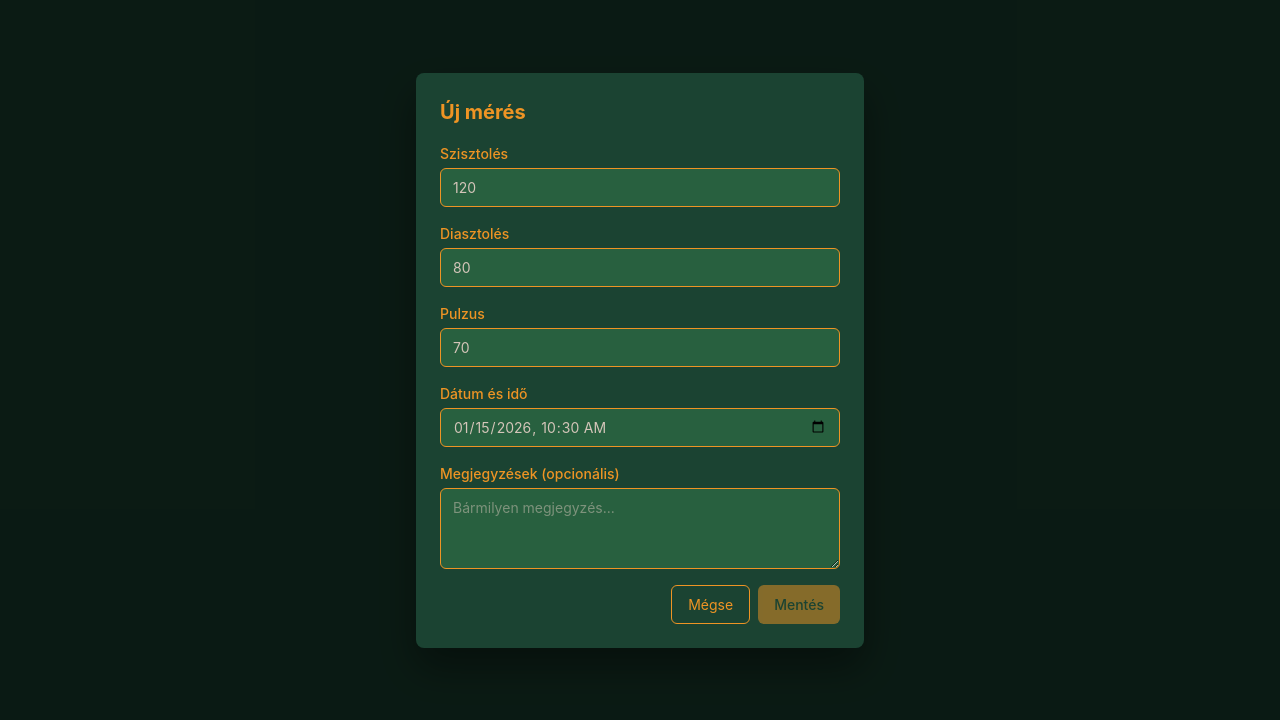
it: ReadingDialog › edit mode › Save is disabled initially and enabled after a field is changed
Expected: the button "Mentés" is disabled, [758, 584, 840, 624]
In the number field labelled "Diasztolés": (640, 267) [440, 248, 840, 286], type "82"
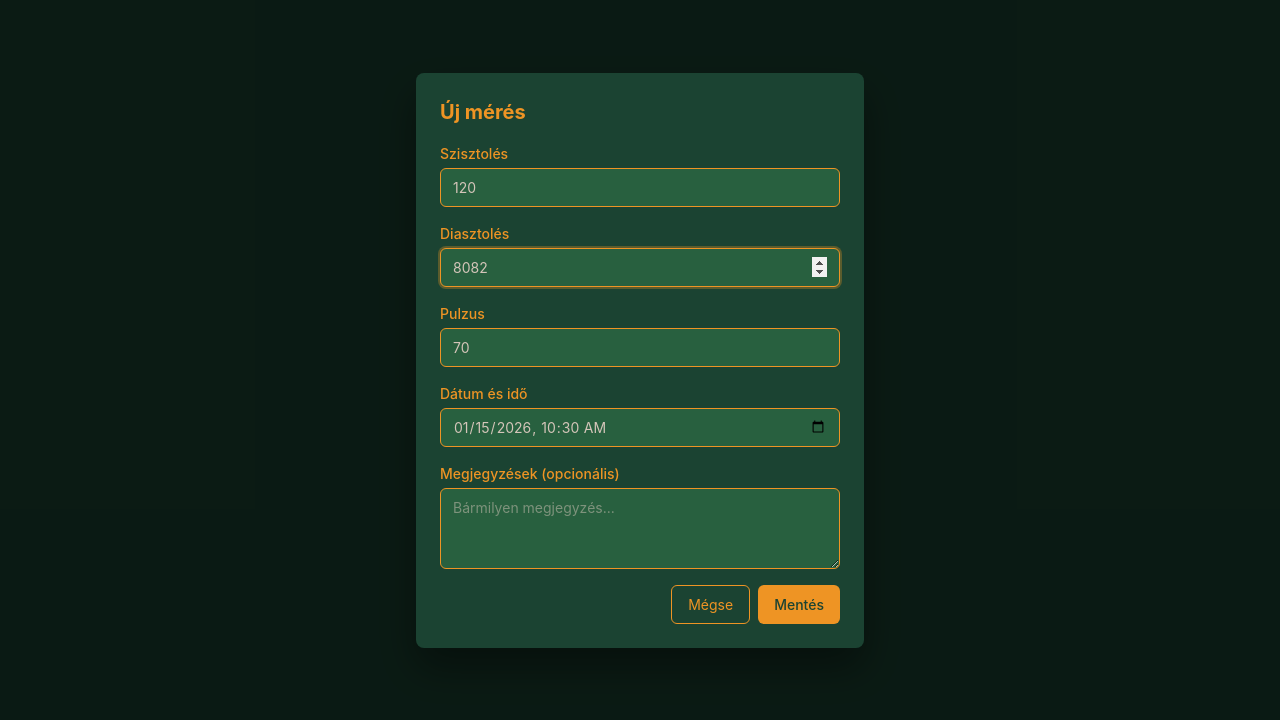
Expected: the button "Mentés" is enabled, [758, 584, 840, 624]
